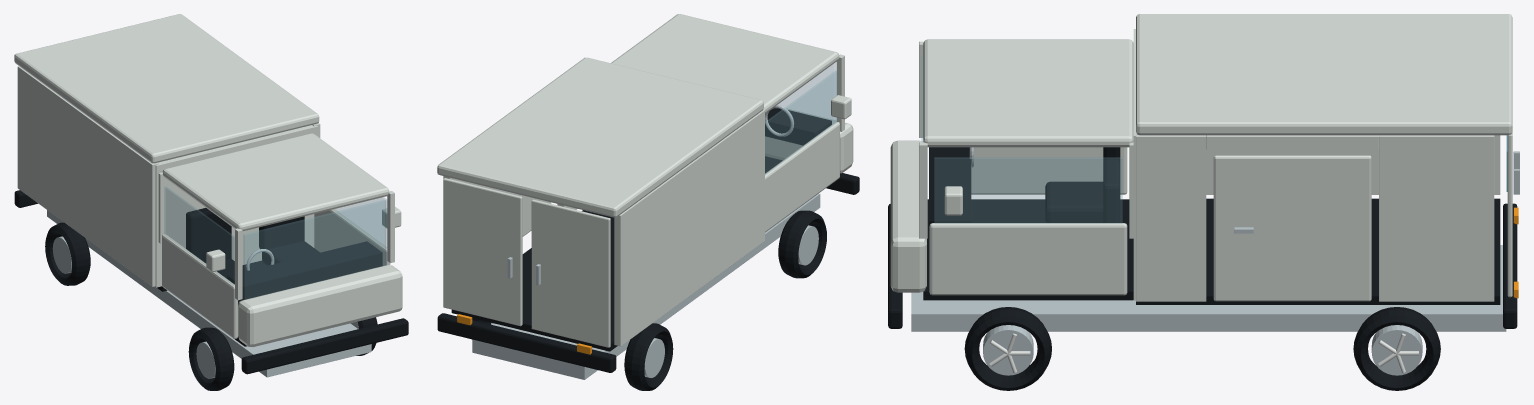
3 views of the same model, side by side, from view 1: azimuth 30°, elevation 25°; view 2: azimuth 150°, elevation 25°; view 3: azimuth 270°, elevation 25° (orthographic). The views are drawn at different scales.
Parts seen in each view (by area): view 1: CARGO_Roof, CARGO_LeftWall, CABIN_Roof, CABIN_Windscreen, CABIN_Nose, CARGO_Bulkhead, CABIN_Door.001, INTERIOR_Dashboard, CHASSIS, CABIN_SideGlass.001, BUMPER.001, CABIN_Door (+12 smaller); view 2: CARGO_Roof, CARGO_LeftWall, CABIN_Roof, REAR_DoorLeaf.001, REAR_DoorLeaf, CABIN_Door.001, CABIN_SideGlass.001, CHASSIS, BUMPER, CARGO_Floor, TYRE, TYRE.001 (+9 smaller); view 3: CARGO_Roof, CARGO_SlidingLeaf, CABIN_Roof, CARGO_RightWall, CHASSIS, CABIN_Door, CABIN_SideGlass, CARGO_RightWall.001, CABIN_Door.001, CABIN_Nose, CABIN_Floor, CARGO_Floor (+15 smaller).
Part boxes in pixels (x1,y1,x2,y2): CARGO_Roof: (14,14,319,163); CARGO_LeftWall: (17,66,158,286); CABIN_Roof: (162,133,389,231); CABIN_Windscreen: (243,200,385,299); CABIN_Nose: (238,265,402,347); CARGO_Bulkhead: (155,125,317,287); CABIN_Door.001: (162,234,237,338); INTERIOR_Dashboard: (227,241,382,300); CHASSIS: (47,210,371,377); CABIN_SideGlass.001: (164,186,234,285); BUMPER.001: (241,318,408,374); CABIN_Door: (314,209,390,265); CARGO_Roof: (437,57,763,217); CARGO_LeftWall: (614,110,764,346); CABIN_Roof: (611,14,839,113); REAR_DoorLeaf.001: (443,178,522,326); REAR_DoorLeaf: (531,199,610,347); CABIN_Door.001: (765,122,839,232); CABIN_SideGlass.001: (765,71,837,175); CHASSIS: (472,193,820,379); BUMPER: (437,313,616,372); CARGO_Floor: (451,210,617,351); TYRE: (778,210,826,278); TYRE.001: (624,323,673,390); CARGO_Roof: (1136,14,1512,135); CARGO_SlidingLeaf: (1213,155,1371,301); CABIN_Roof: (923,39,1133,147); CARGO_RightWall: (1379,135,1494,301); CHASSIS: (911,245,1506,331); CABIN_Door: (929,223,1127,295); CABIN_SideGlass: (934,157,1122,223); CARGO_RightWall.001: (1136,133,1206,301); CABIN_Door.001: (971,147,1127,194); CABIN_Nose: (890,140,926,292); CABIN_Floor: (923,199,1133,300); CARGO_Floor: (1136,198,1500,304).
Bounding box in the file's own units: 2.44 × 2.48 × 5.2.
